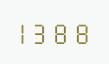eight: (54, 20, 71, 44), (72, 20, 89, 44)
one: (18, 20, 35, 44)
three: (36, 20, 53, 44)
